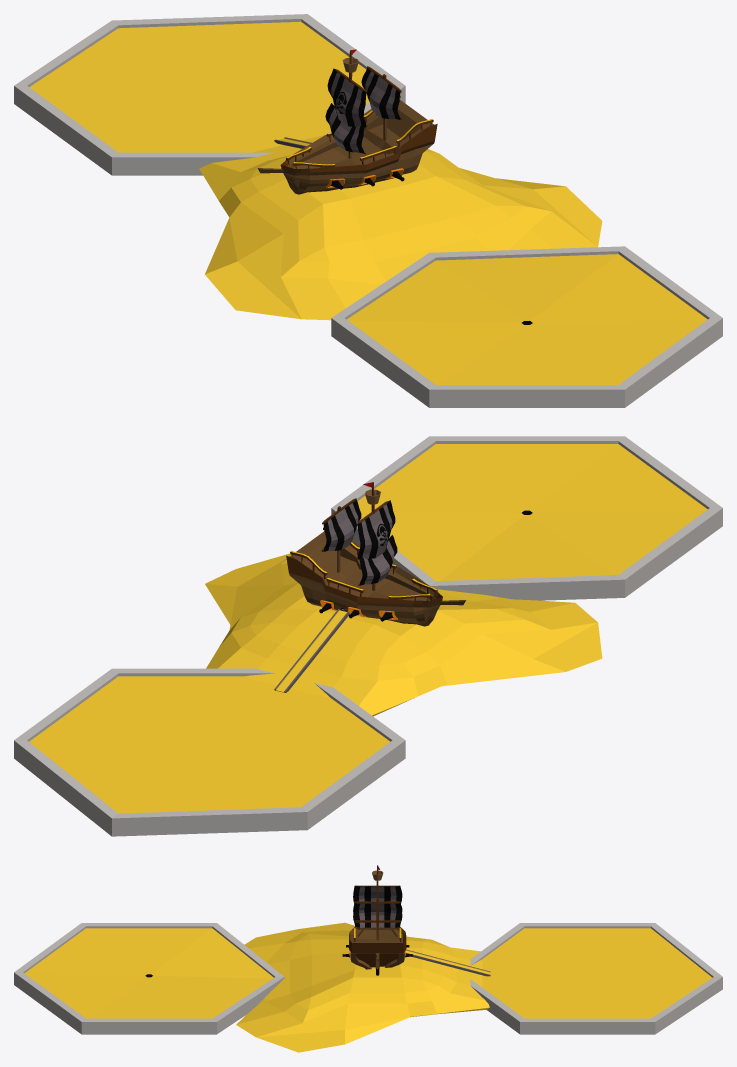
File: ship.glb
The picture shows the model from 3 angles, top to bottom: view 1: azimuth 30°, elevation 25°; view 2: azimuth 150°, elevation 25°; view 3: azimuth 270°, elevation 25°; orthographic projection. The views are drawn at different scales.
Visible parts, largest first — view 1: ground, ship, Plane.002; view 2: ground, ship, Plane.002; view 3: ground, ship, Plane.002.
Part boxes in pixels (bbox=[...]): ground: bbox=[14, 14, 722, 407]; ship: bbox=[257, 66, 437, 194]; Plane.002: bbox=[325, 68, 400, 153]; ground: bbox=[14, 436, 722, 836]; ship: bbox=[286, 498, 465, 626]; Plane.002: bbox=[323, 499, 397, 585]; ground: bbox=[14, 922, 722, 1052]; ship: bbox=[342, 881, 412, 975]; Plane.002: bbox=[353, 885, 402, 927].
Bounding box in the file's own units: 108 × 50.07 × 262.
3 materials, 3 textured.
